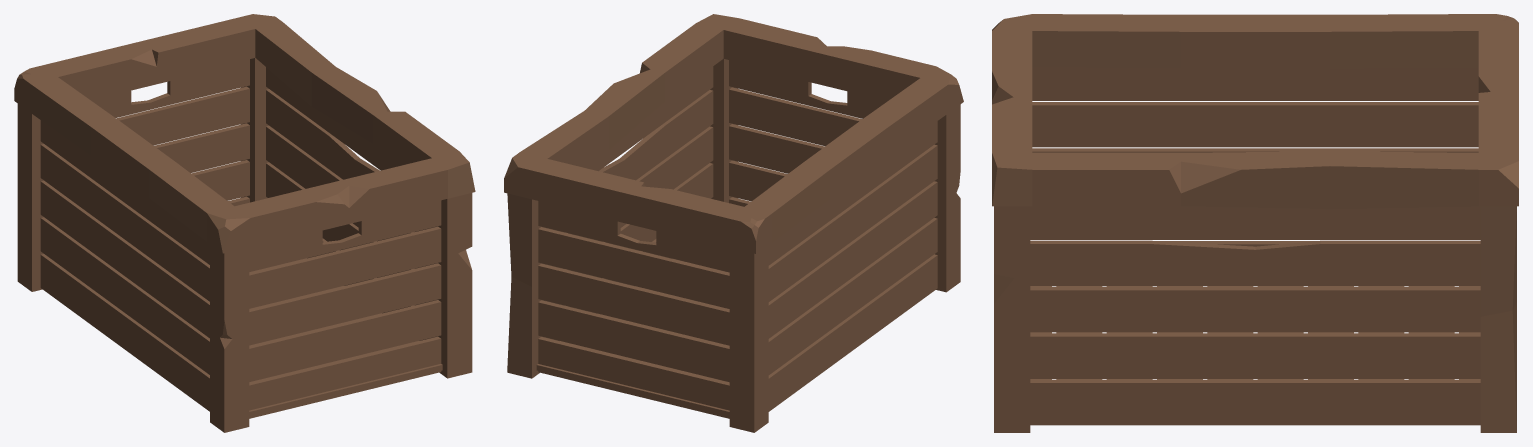
Rendered from KeranjangBuah.fbx.
3 renders of one model, left to right at view 1: azimuth 30°, elevation 25°; view 2: azimuth 150°, elevation 25°; view 3: azimuth 270°, elevation 25°, orthographic. The views are drawn at different scales.
Visible parts, largest first — view 1: KeranjangBuah; view 2: KeranjangBuah; view 3: KeranjangBuah.
Part boxes in pixels (x1=…): KeranjangBuah: x1=14, y1=14, x2=475, y2=432; KeranjangBuah: x1=504, y1=14, x2=963, y2=432; KeranjangBuah: x1=992, y1=14, x2=1518, y2=432.
Bounding box in the file's own units: 95.2 × 75.39 × 136.
